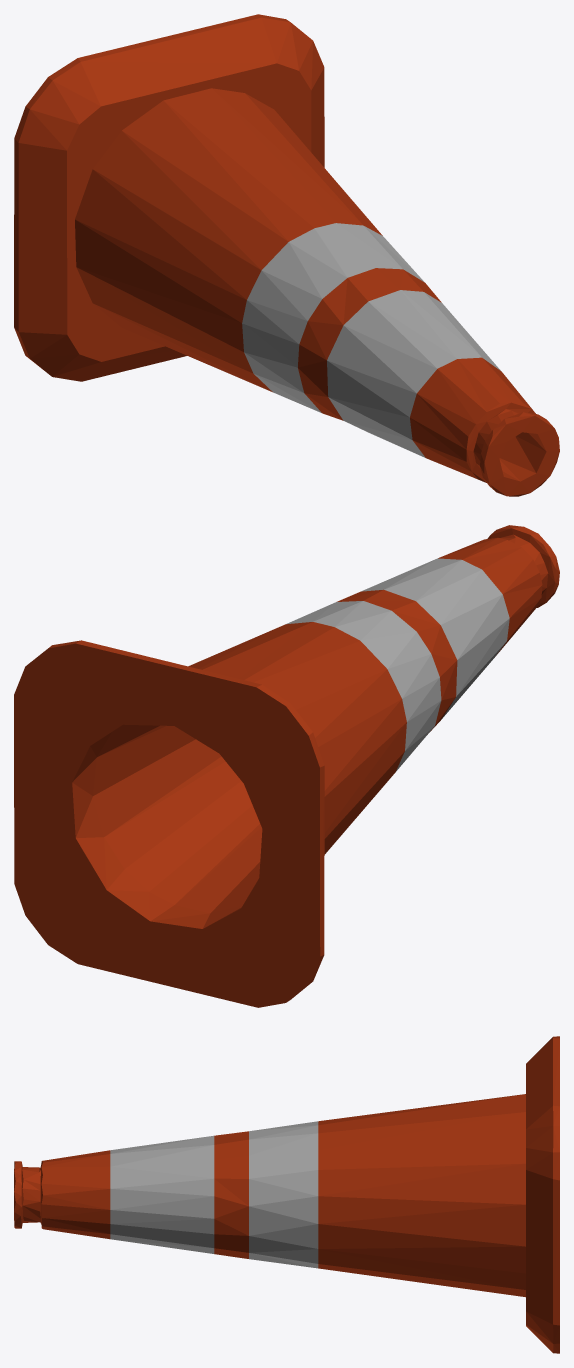
The picture shows the model from 3 angles, top to bottom: view 1: azimuth 30°, elevation 25°; view 2: azimuth 150°, elevation 25°; view 3: azimuth 270°, elevation 25°; orthographic projection. The views are drawn at different scales.
Visible parts, largest first — view 1: 28 Inch (×2); view 2: 28 Inch (×2); view 3: 28 Inch (×2).
Boxes of the visible parts, x1,y1,x2,y2 form: 28 Inch (×2): [14, 14, 559, 496]; 28 Inch (×2): [14, 525, 559, 1007]; 28 Inch (×2): [14, 1036, 559, 1353].
Bounding box in the file's own units: 0.2613 × 0.2613 × 0.5255.
